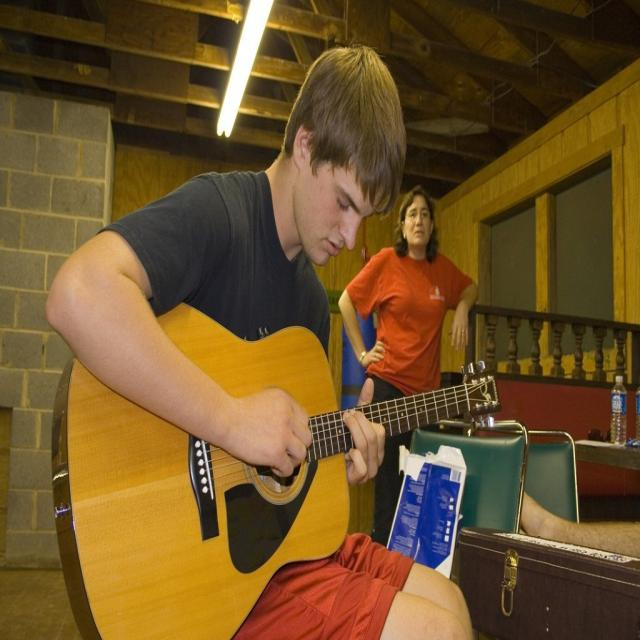guitar: (51, 300, 502, 640)
